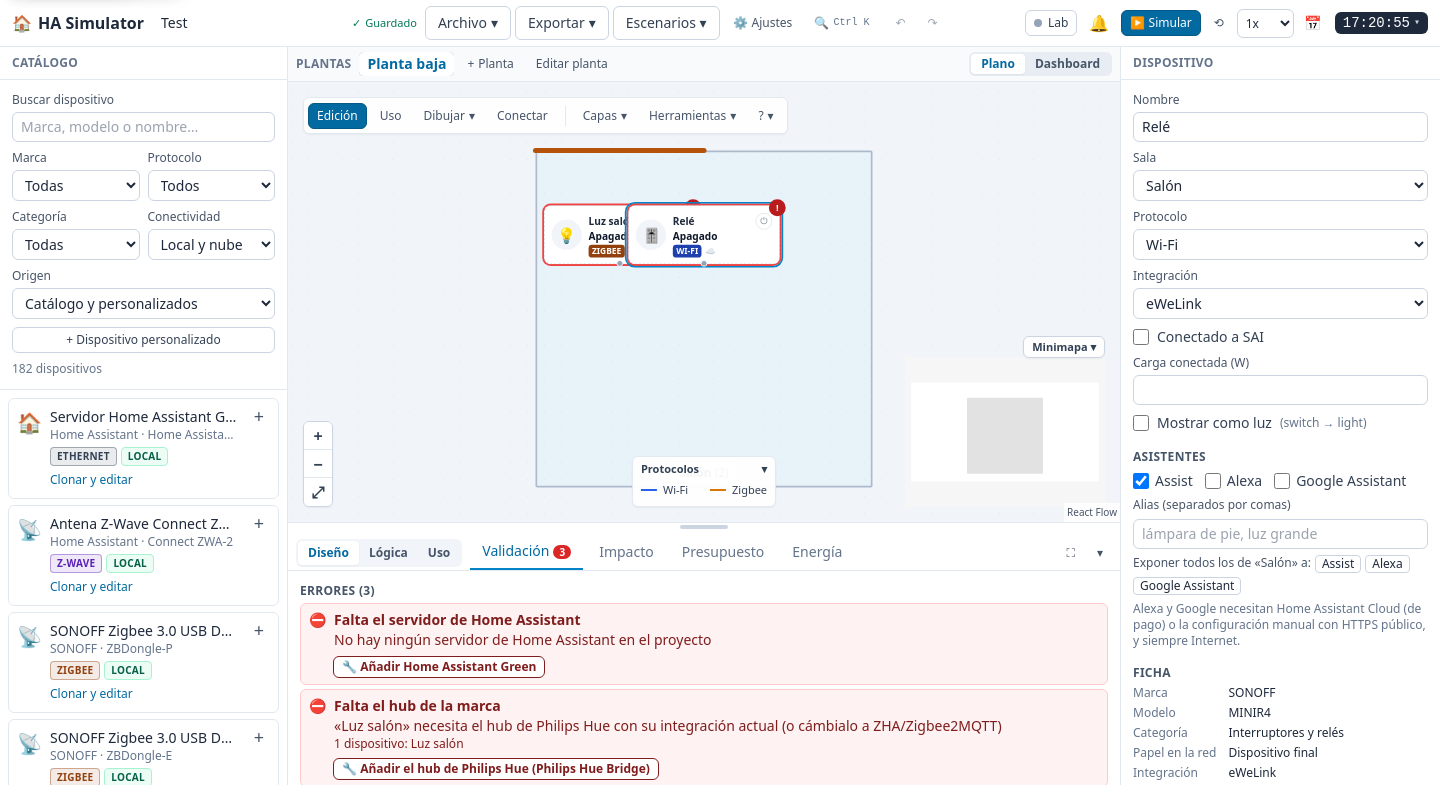
Test: capas y menús de la Fase 3 en el lienzo › «Mostrar como luz» en las propiedades del relé
This screenshot has width=1440, height=785.
Click the checkbox labelled "Mostrar como luz (switch → light)".
click(1141, 423)  # box 1133,415 -> 1149,431
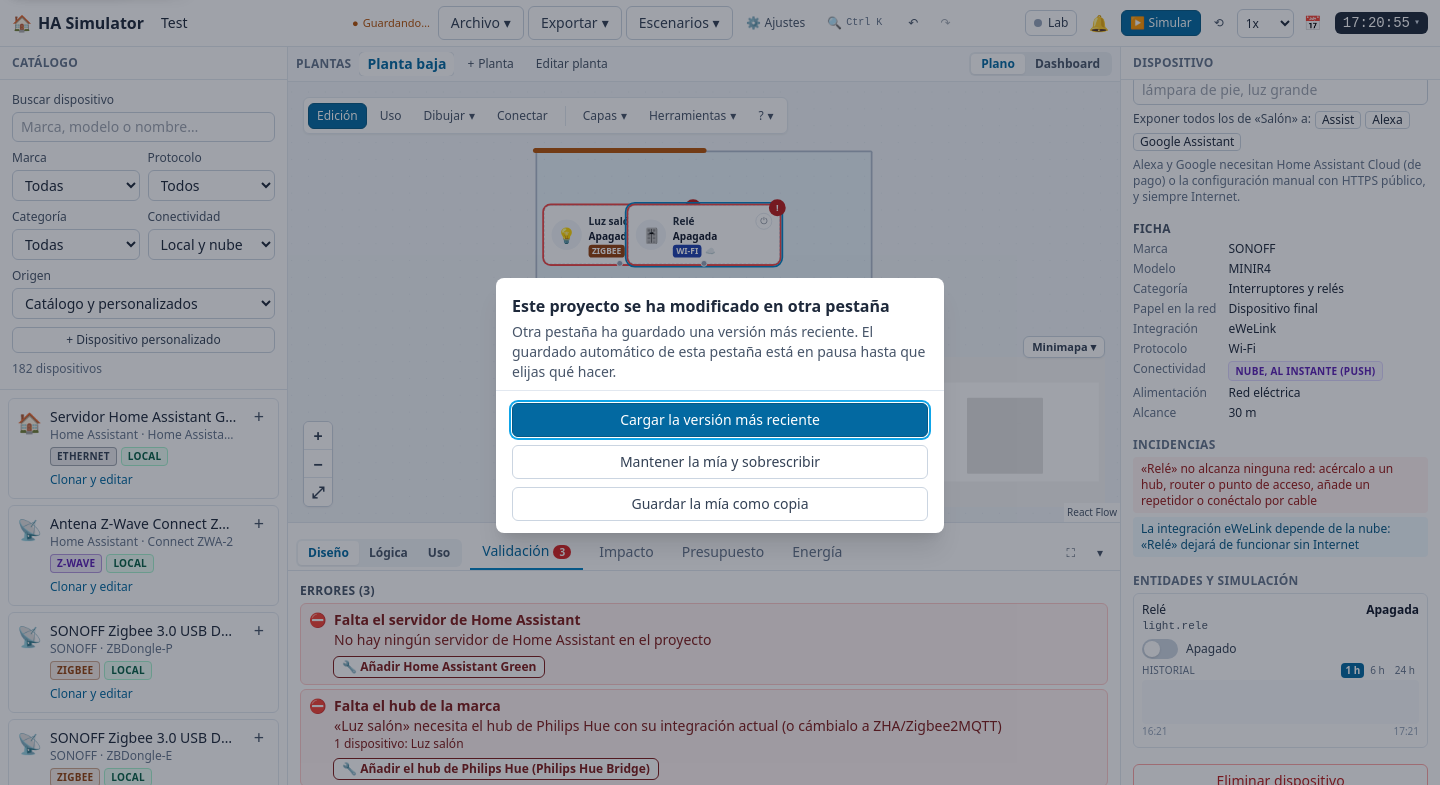
Expected: the text "light.rele" is shown, 1142,620 -> 1208,632
